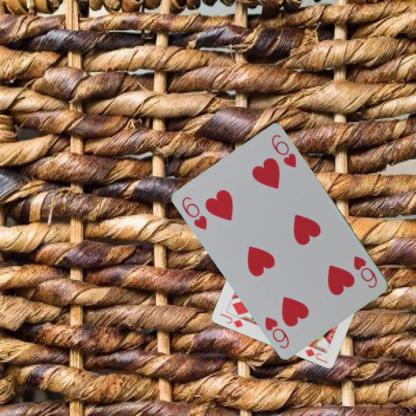6h: (179, 194, 209, 231), (351, 253, 379, 290)
Jd: (218, 310, 245, 329)
